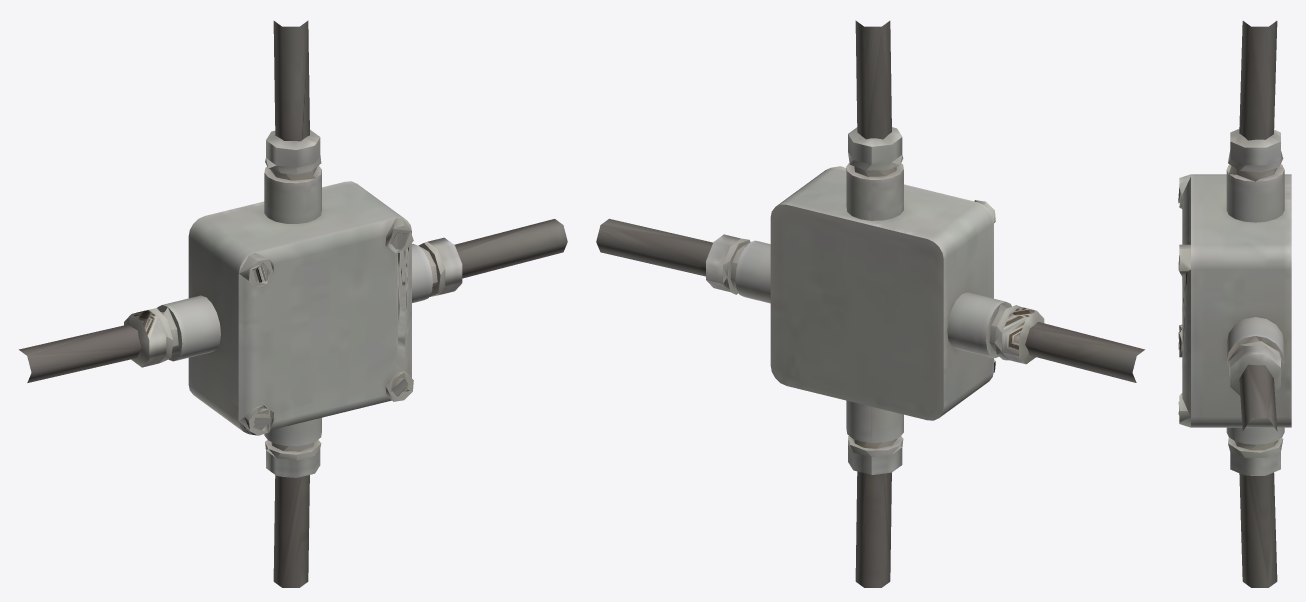
Rendered from modular-electric-cables-box-4way.glb.
3 views of the same model, side by side, from view 1: azimuth 30°, elevation 25°; view 2: azimuth 150°, elevation 25°; view 3: azimuth 270°, elevation 25° (orthographic).
Parts seen in each view (by area): view 1: modular_electric_cables_box_4way; view 2: modular_electric_cables_box_4way; view 3: modular_electric_cables_box_4way.
Boxes of the visible parts, left/top/right/bottom form: modular_electric_cables_box_4way: left=19, top=20, right=567, bottom=587; modular_electric_cables_box_4way: left=596, top=20, right=1144, bottom=587; modular_electric_cables_box_4way: left=1178, top=21, right=1291, bottom=587.
Size of the model in its own units: 0.2 by 0.2 by 0.0366.
1 material, 1 textured.
